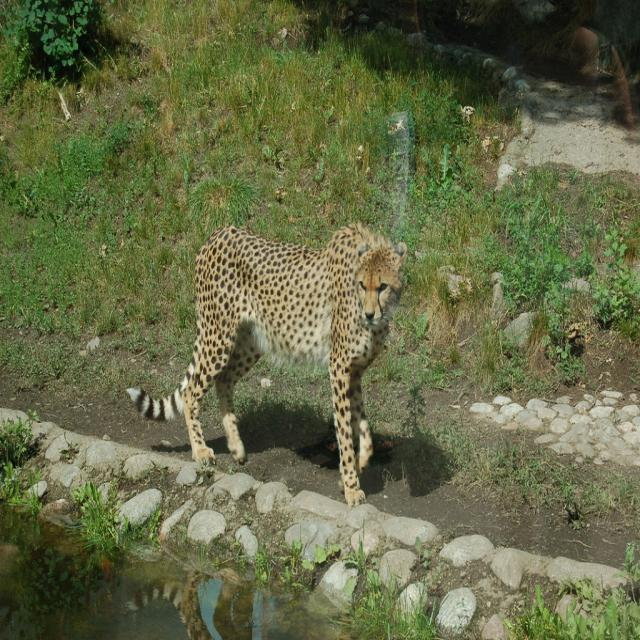Cheetah: (127, 218, 409, 510)
